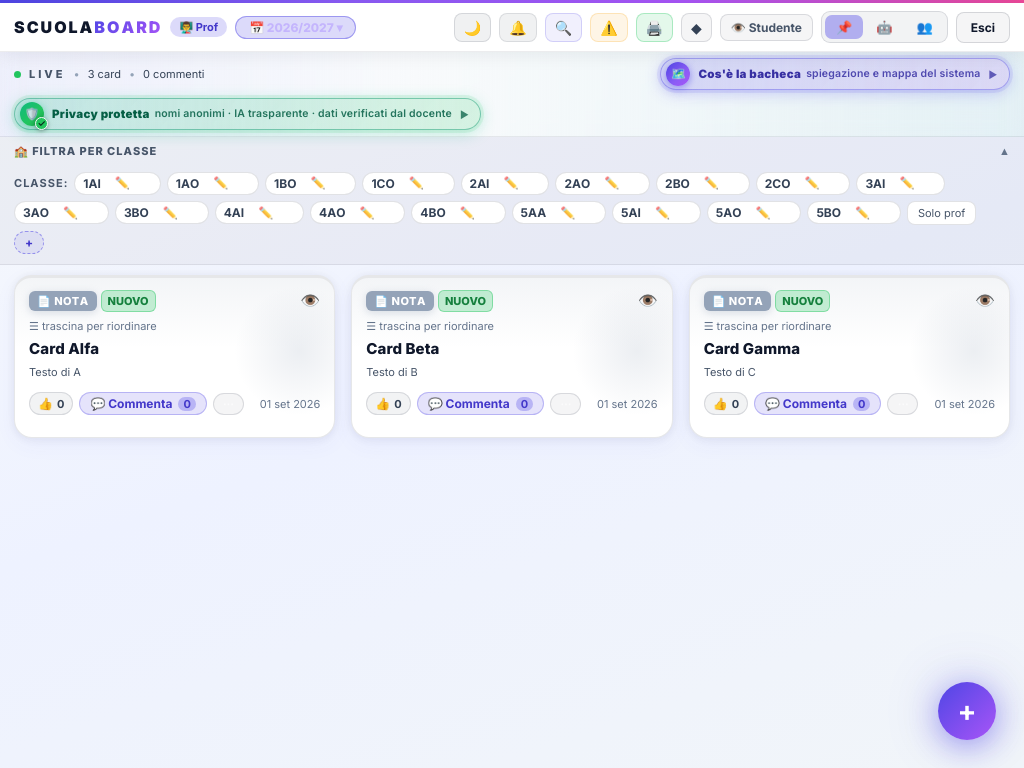
Test case: Ordine della griglia — apertura recente e card fissate › il trascinamento riprende il comando: le card aperte tornano al loro posto
The width and height of the screenshot is (1024, 768).
Check: the text "Card Alfa" is shown, box [29, 338, 99, 358]
Click the text "Card Gamma": (752, 348) [704, 338, 800, 358]
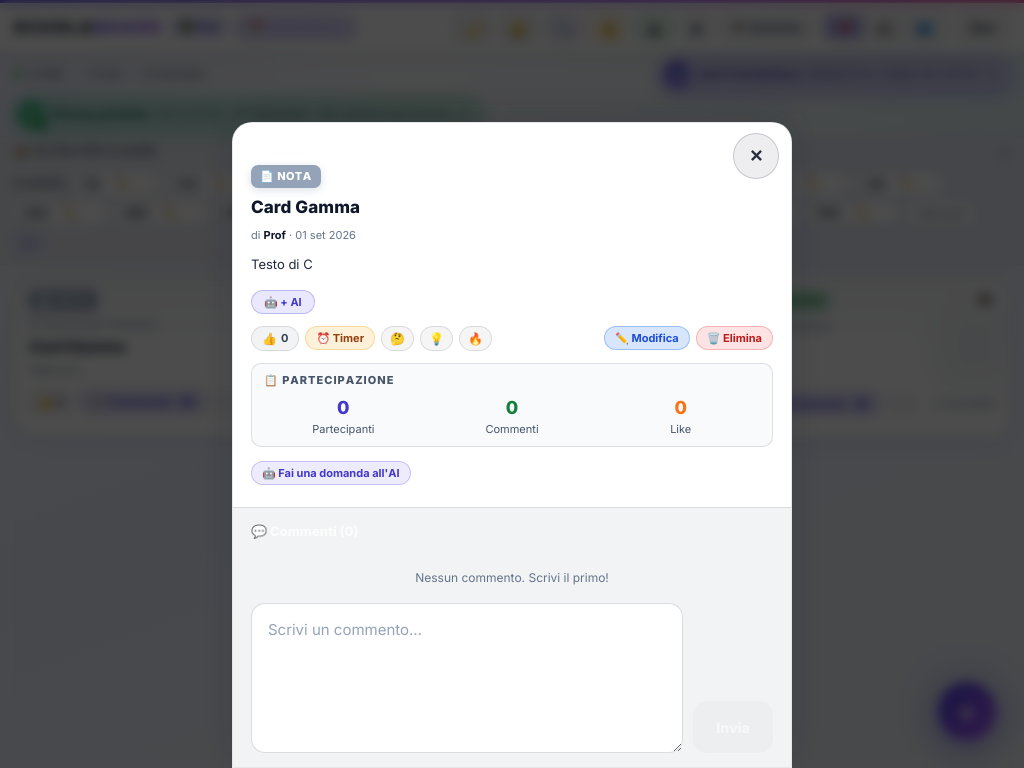
Click the button named "Chiudi card": (756, 156) [733, 134, 779, 180]
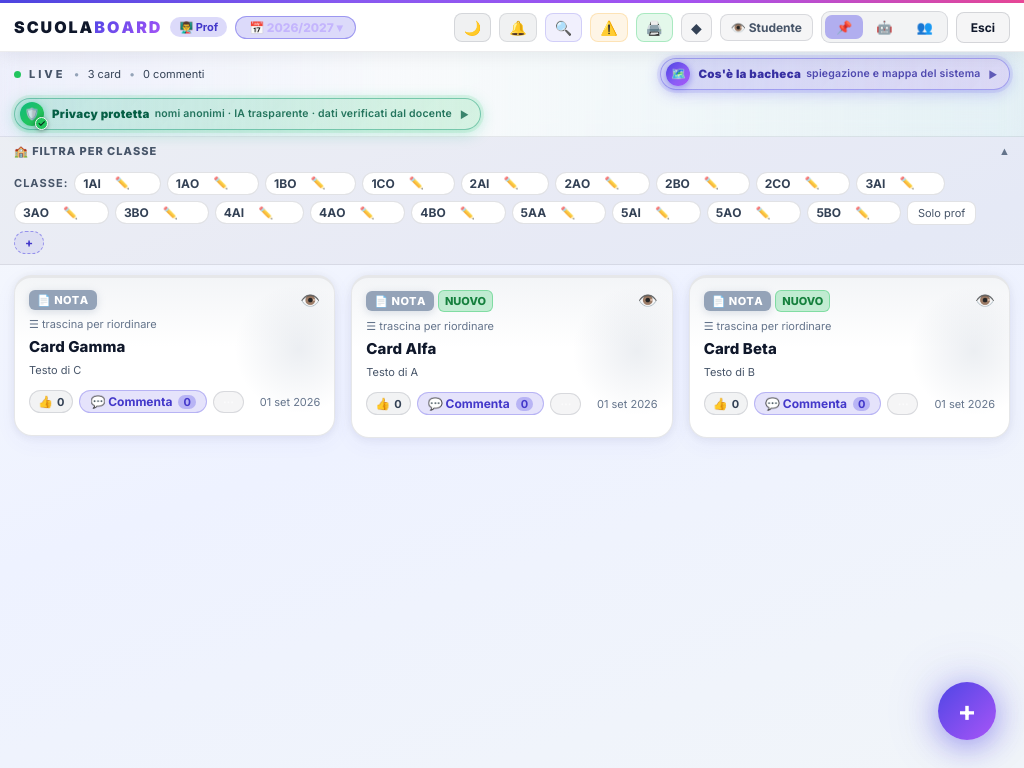
Check: the element with class "modal-inner" is gone
